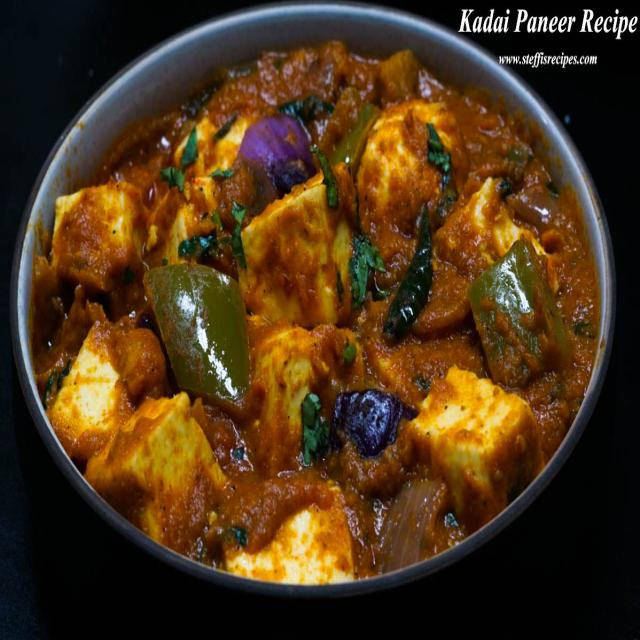Paneer_tikka: (65, 87, 539, 586)
